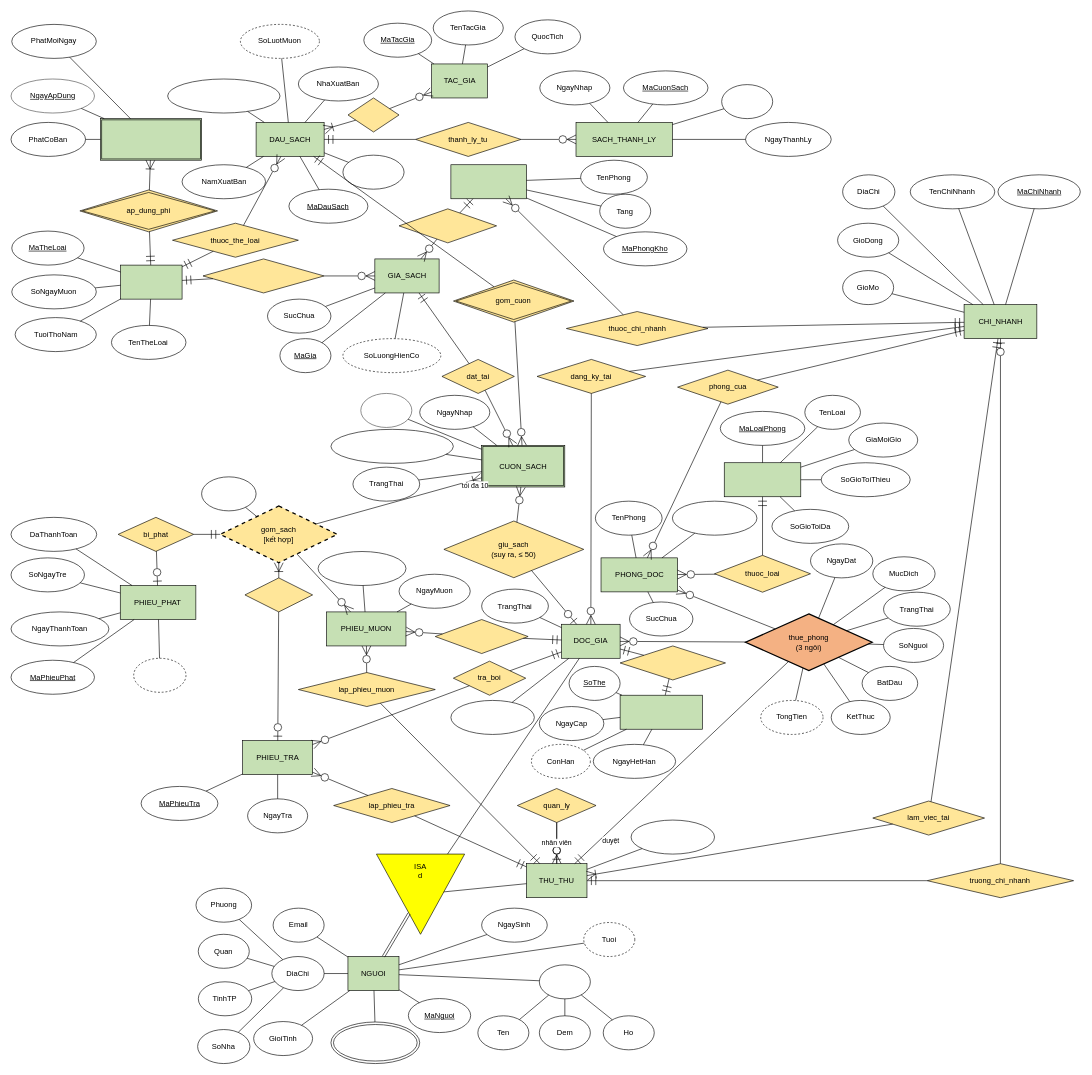
This 1092x1075 diagram has some shape labels left out. The shapes that lost their labels are listed below. From the top down, each one's centre as x and y in pixels, then its label:
At point (223, 95): "SoNgayMuonRieng".
At point (373, 114): "viet".
At point (747, 101): "LyDo".
At point (151, 139): "BANG_PHI_PHAT".
At point (373, 172): "TenSach".
At point (488, 181): "PHONG_KHO".
At point (447, 225): "nam_trong".
At point (151, 281): "THE_LOAI".
At point (263, 275): "chua_the_loai".
At point (386, 410): "STT".
At point (391, 446): "TuoiThoConLaiThang".
At point (228, 493): "HanTra".
At point (762, 479): "LOAI_PHONG".
At point (714, 518): "MaPhongDoc".
At point (361, 568): "MaPhieuMuon".
At point (278, 594): "tra_lai".
At point (481, 636): "muon_boi".
At point (159, 675): "SoTien".
At point (672, 662): "so_huu_the".
At point (492, 717): "NgayDangKy".
At point (660, 712): "THE_DOC_GIA".
At point (672, 836): "NgayVaoLam".
At point (564, 981): "HoTen".
At point (375, 1042): "SoDienThoai".
